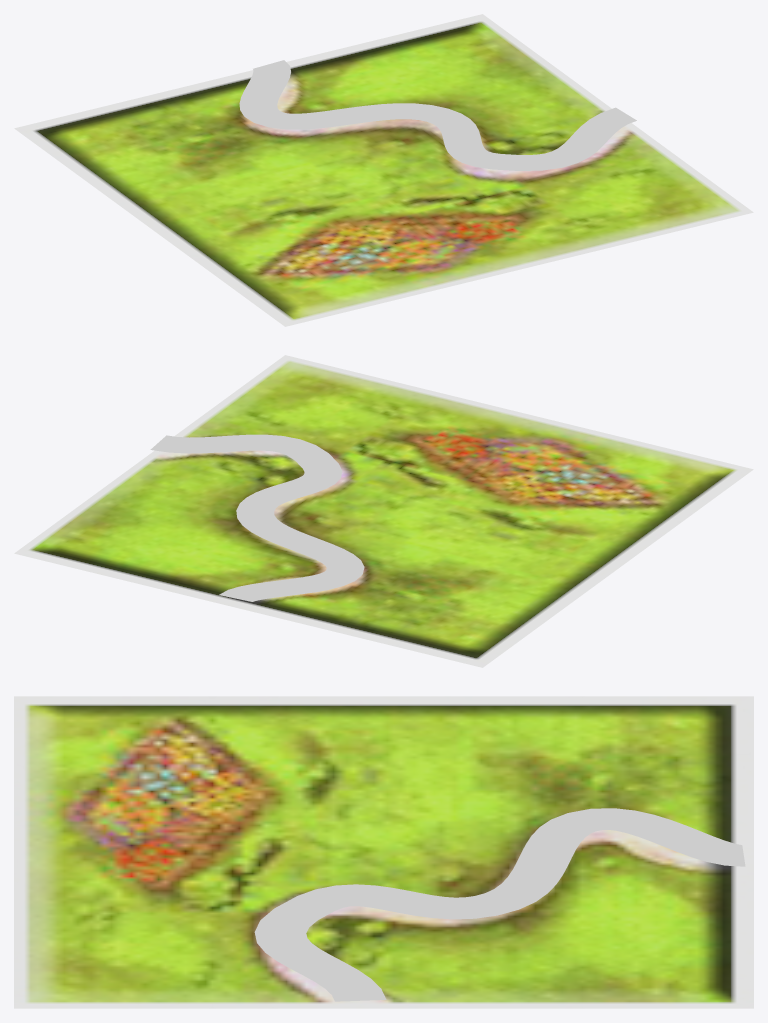
Rendered from tile15.fbx.
3 renders of one model, top to bottom at view 1: azimuth 30°, elevation 25°; view 2: azimuth 150°, elevation 25°; view 3: azimuth 270°, elevation 25°, orthographic. The views are drawn at different scales.
Visible parts, largest first — view 1: tile15; view 2: tile15; view 3: tile15.
Boxes of the visible parts, <box> form: tile15: <box>14,14,753,326</box>; tile15: <box>14,355,753,667</box>; tile15: <box>14,696,753,1008</box>.
Bounding box in the file's own units: 100 × 1.12 × 100.
